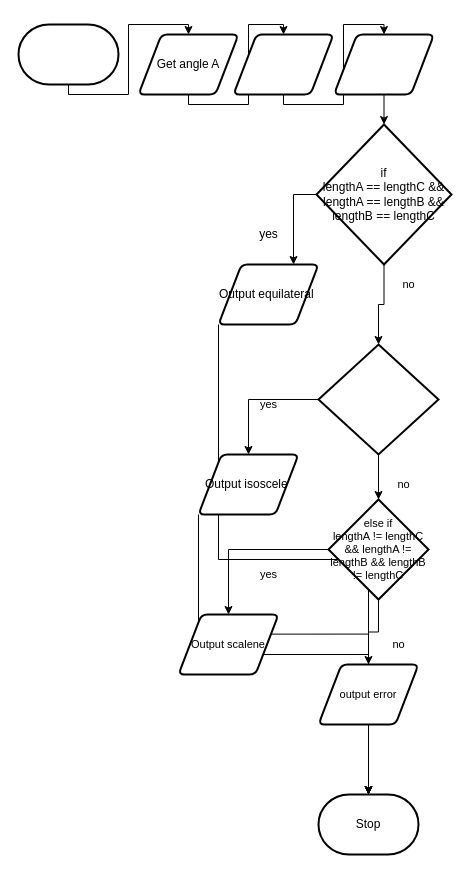
Image size: 469x873. Some labels were removed from this diagram. The shapes that lost their labels are listed below. From the top down, each one's centre as x and y in pixels, then its label:
the point at 68,54: Start
the point at 283,64: Get angle B
the point at 383,64: Get angle C
the point at 378,399: else if lengthA == lengthC || lengthC == lengthB || lengthA == lengthB
